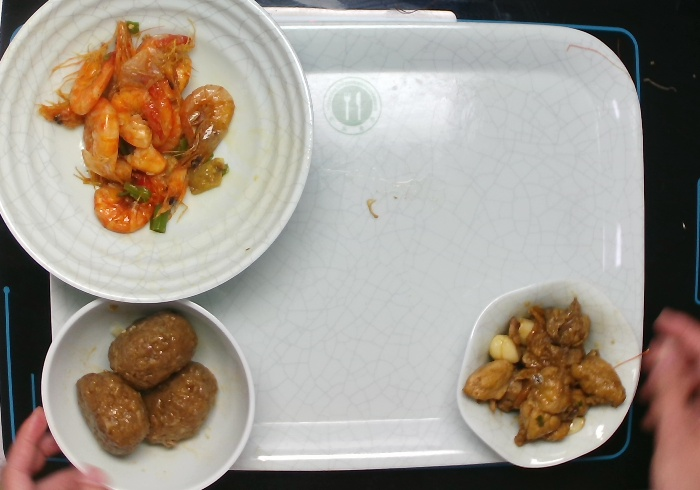JYsf-Da_Tang_Wan: (1, 1, 319, 307)
JYsf-Fan_Wan: (36, 293, 261, 490)
WCQzf-Hua_Duo_Wan: (450, 273, 643, 472)
